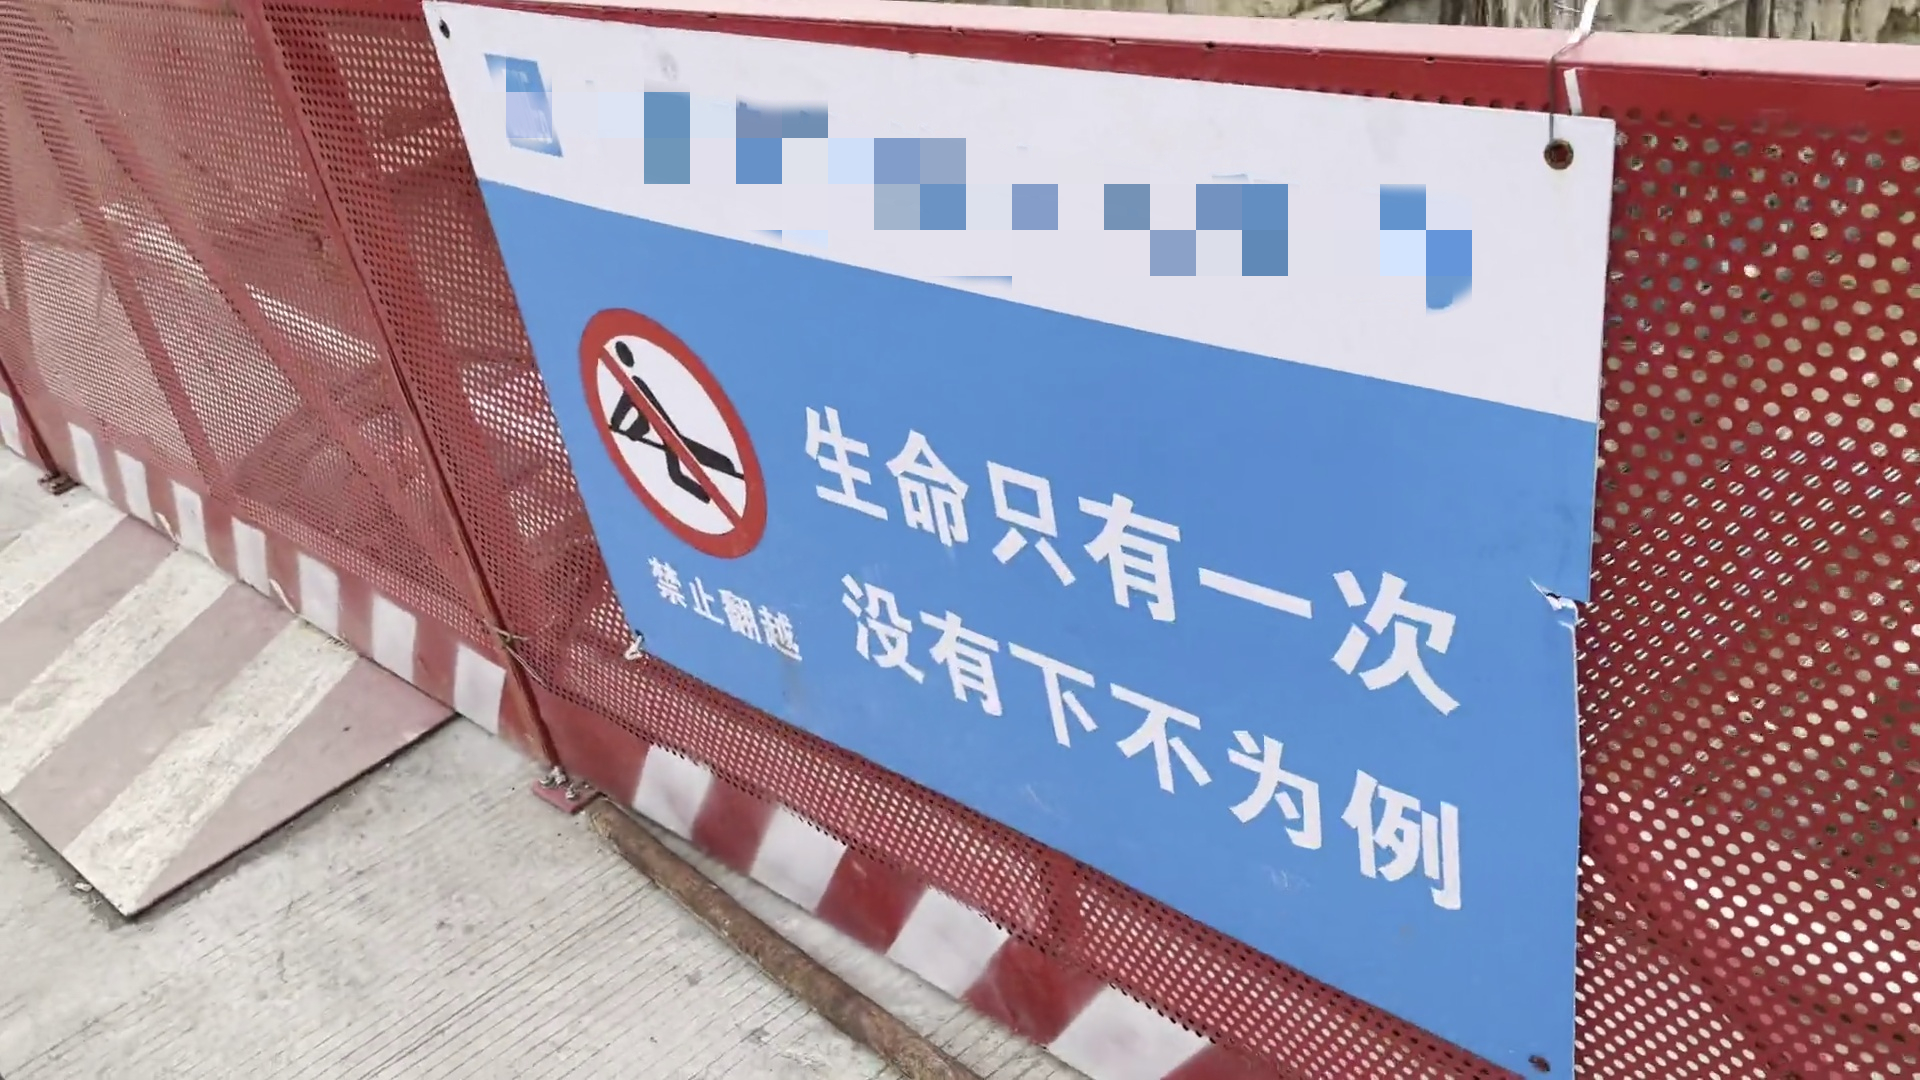fence: (553, 1, 1920, 1080), (1, 1, 566, 806)
slogan: (390, 1, 1671, 1080)
